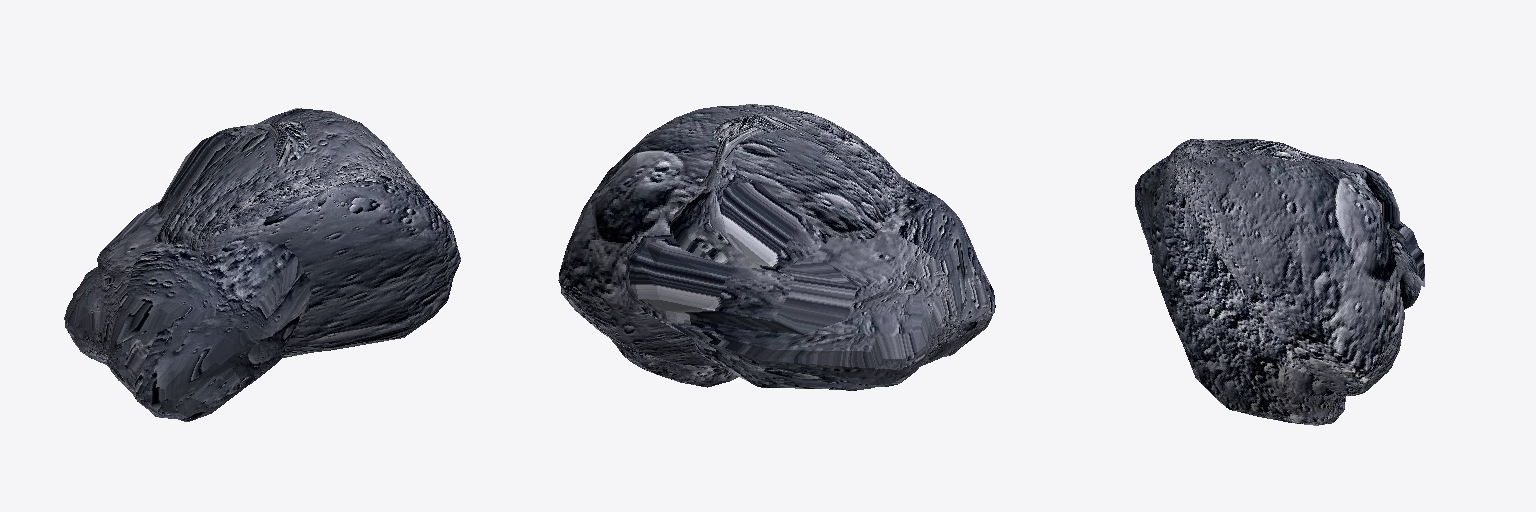
3 renders of one model, left to right at view 1: azimuth 30°, elevation 25°; view 2: azimuth 150°, elevation 25°; view 3: azimuth 270°, elevation 25°, orthographic.
Visible parts, largest first — view 1: Esfera_UV.004; view 2: Esfera_UV.004; view 3: Esfera_UV.004.
Part boxes in pixels (bbox=[...]): Esfera_UV.004: bbox=[64, 108, 460, 421]; Esfera_UV.004: bbox=[558, 104, 995, 390]; Esfera_UV.004: bbox=[1135, 139, 1424, 425].
Size of the model in its own units: 4.93 by 3.4 by 3.58.
Materials: 2 (1 with a texture image).